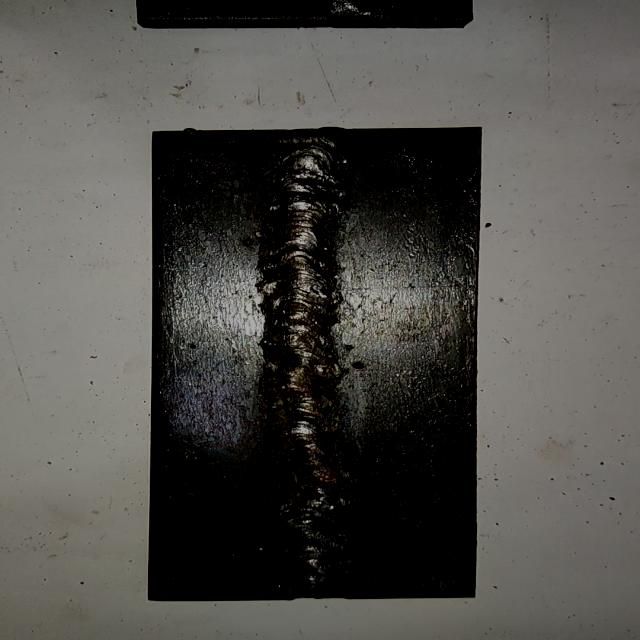Good Weld: (270, 133, 347, 589)
